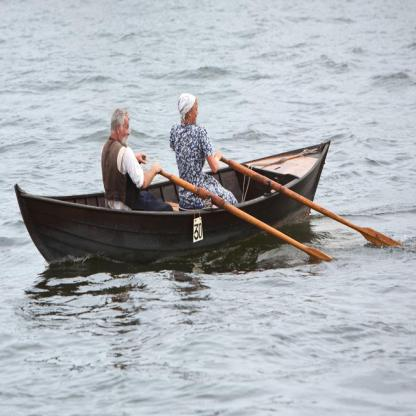face: (120, 117, 131, 149), (192, 101, 200, 125)
